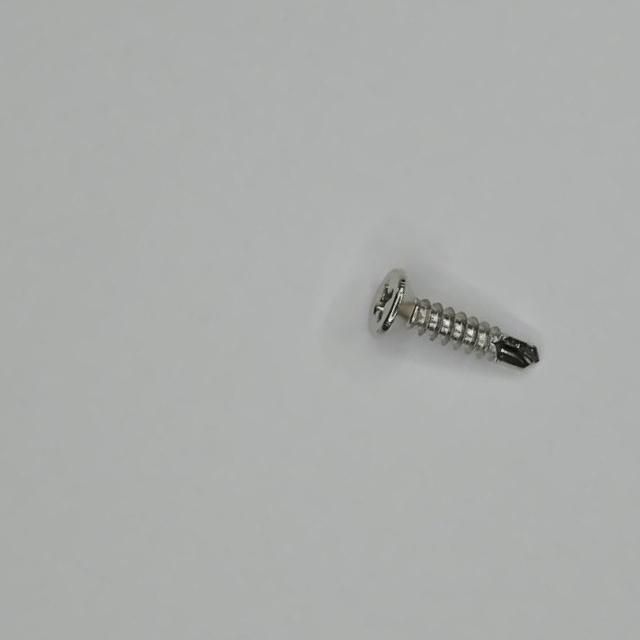Screw: (372, 269, 540, 368)
